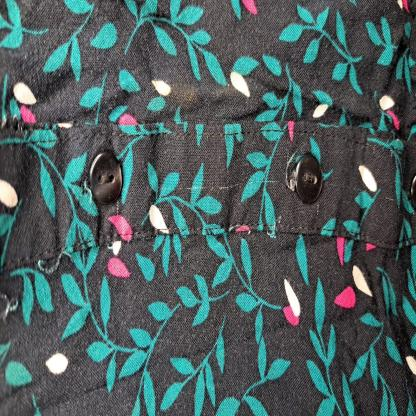spot: (169, 86, 204, 111)
